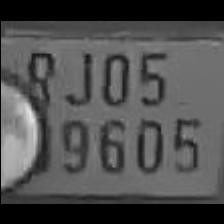0: (129, 110, 165, 174), (96, 42, 130, 106)
5: (165, 110, 203, 172), (133, 46, 169, 106)
6: (92, 111, 128, 174)
9: (55, 110, 89, 174)
J: (57, 42, 93, 106)
R: (13, 44, 59, 124)
